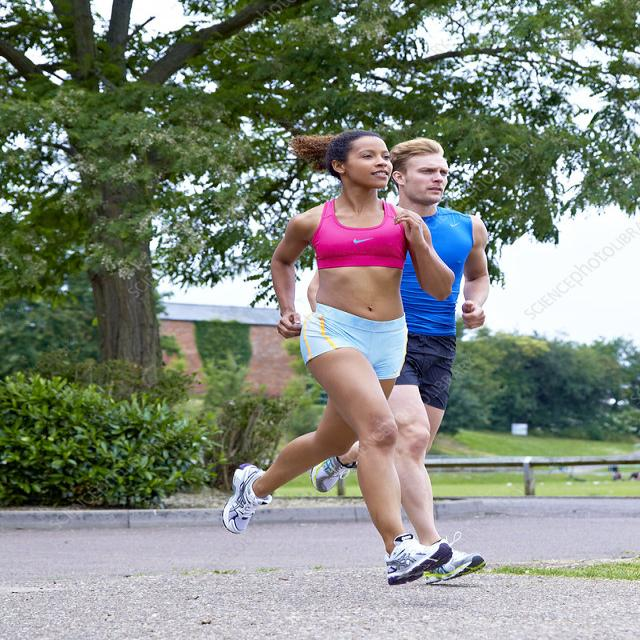Person: (221, 128, 457, 592), (310, 137, 493, 587)
